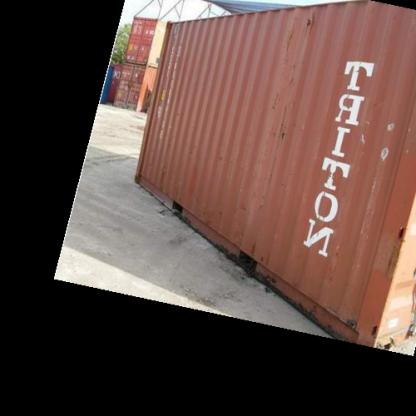Damage: (262, 82, 292, 156), (281, 12, 316, 58), (373, 107, 397, 166), (332, 302, 365, 334), (243, 242, 270, 269)
